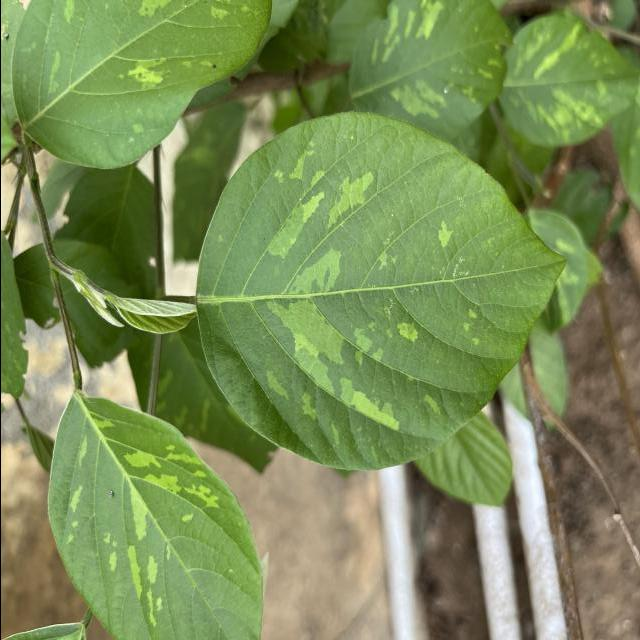Desmodium gangeticum: (188, 108, 570, 479), (44, 386, 265, 640), (6, 0, 275, 173)
